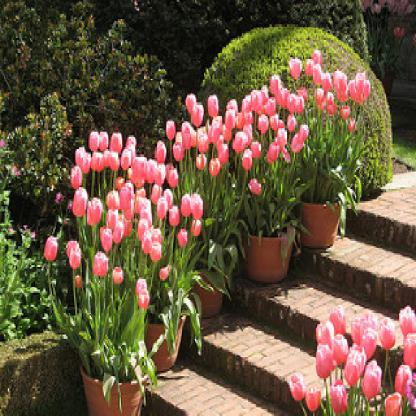TULIP: (53, 50, 395, 407)
